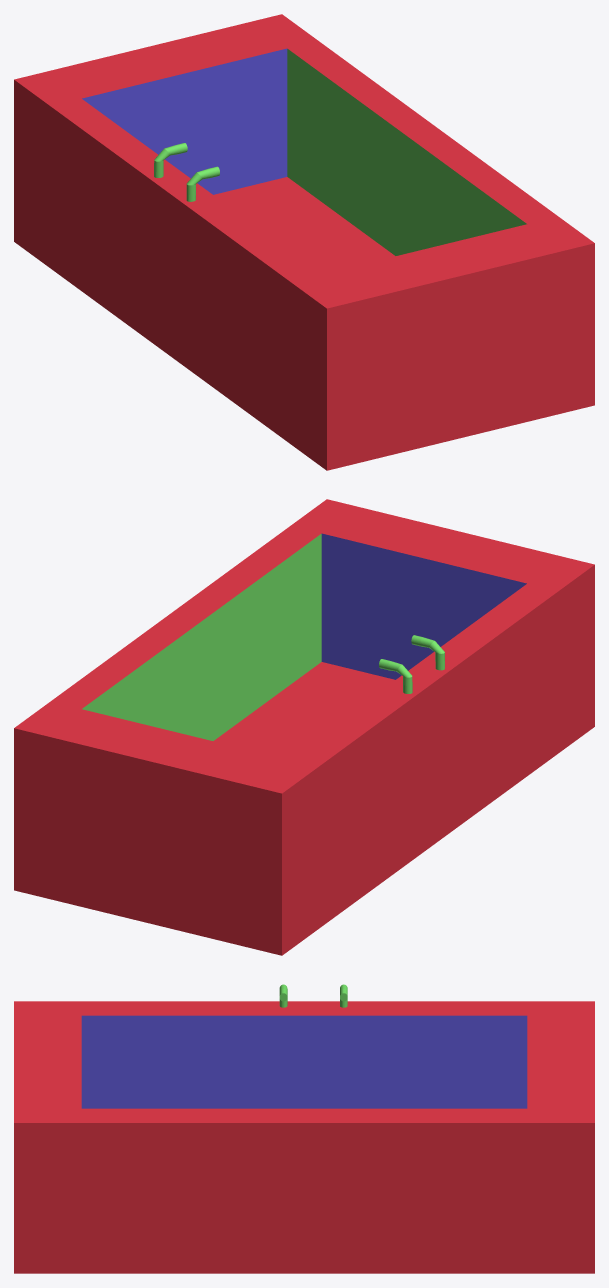
Rendered from BathUV.fbx.
3 renders of one model, top to bottom at view 1: azimuth 30°, elevation 25°; view 2: azimuth 150°, elevation 25°; view 3: azimuth 270°, elevation 25°, orthographic. The views are drawn at different scales.
Parts seen in each view (by area): view 1: bath; view 2: bath; view 3: bath.
Part boxes in pixels (left/top/right/bottom): bath: left=14, top=14, right=594, bottom=470; bath: left=14, top=499, right=594, bottom=955; bath: left=14, top=984, right=594, bottom=1273.
Size of the model in its own units: 235 by 158 by 475.
